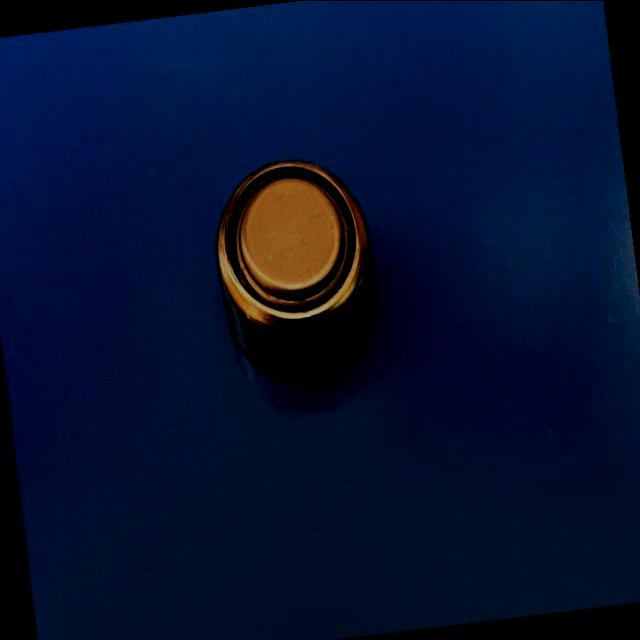COIN: (207, 150, 386, 390)
